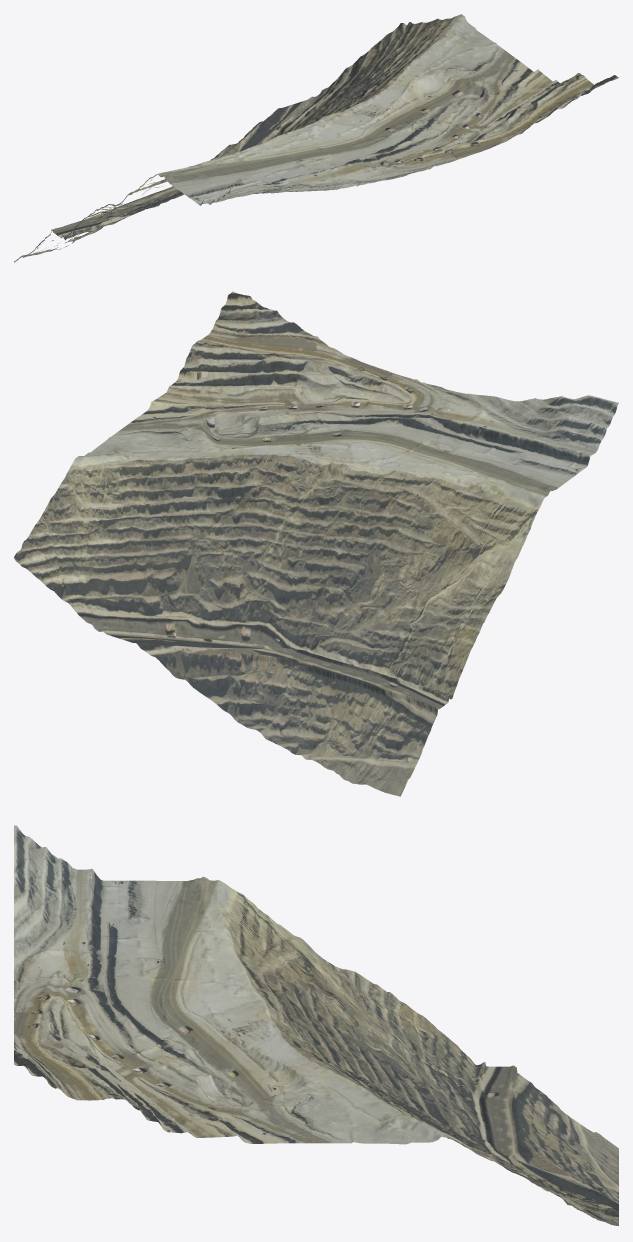
3 views of the same model, one above another, from view 1: azimuth 30°, elevation 25°; view 2: azimuth 150°, elevation 25°; view 3: azimuth 270°, elevation 25° (orthographic). The views are drawn at different scales.
Parts seen in each view (by area): view 1: l2-2-0; view 2: l2-2-0; view 3: l2-2-0.
Part boxes in pixels (x1,y1,x2,y2): l2-2-0: (14, 14, 618, 262); l2-2-0: (14, 291, 618, 796); l2-2-0: (14, 825, 618, 1225).
Size of the model in its own units: 768 by 477 by 751.
Materials: 1 (1 with a texture image).
